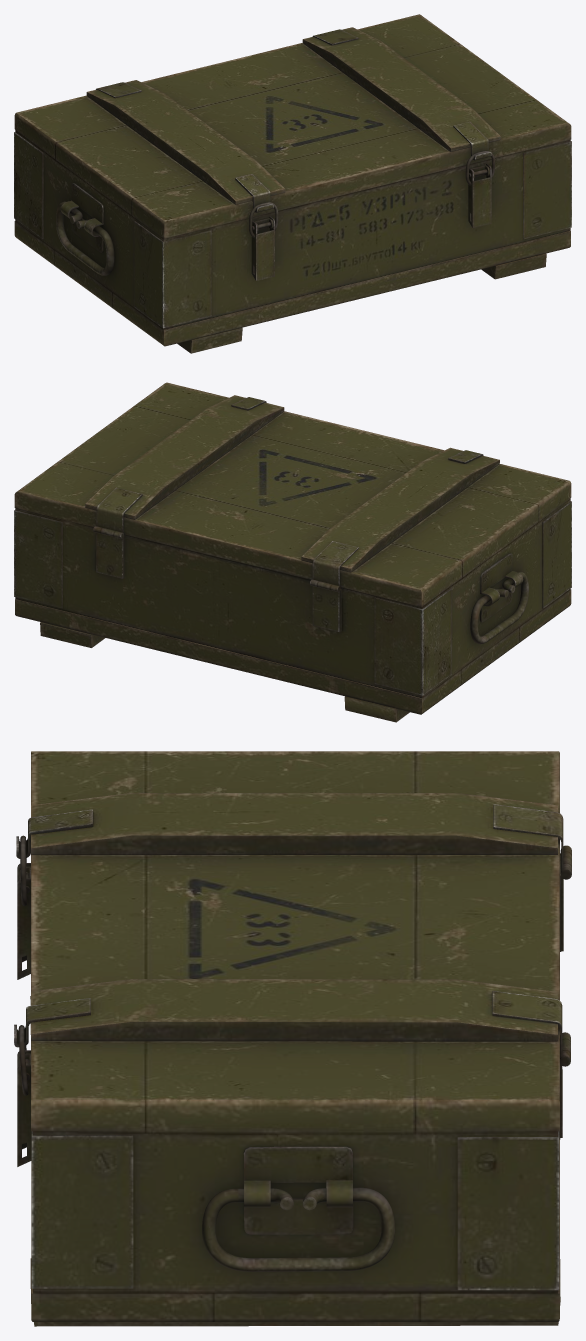
File: military_crate.glb
3 views of the same model, one above another, from view 1: azimuth 30°, elevation 25°; view 2: azimuth 150°, elevation 25°; view 3: azimuth 270°, elevation 25° (orthographic). The views are drawn at different scales.
Parts seen in each view (by area): view 1: Weapon_Crate_Low_0; view 2: Weapon_Crate_Low_0; view 3: Weapon_Crate_Low_0.
Part boxes in pixels (left/top/right/bottom): Weapon_Crate_Low_0: left=14, top=14, right=571, bottom=353; Weapon_Crate_Low_0: left=14, top=382, right=571, bottom=722; Weapon_Crate_Low_0: left=14, top=751, right=571, bottom=1326.
Size of the model in its own units: 0.501 by 0.1648 by 0.3146.
1 material, 1 textured.
